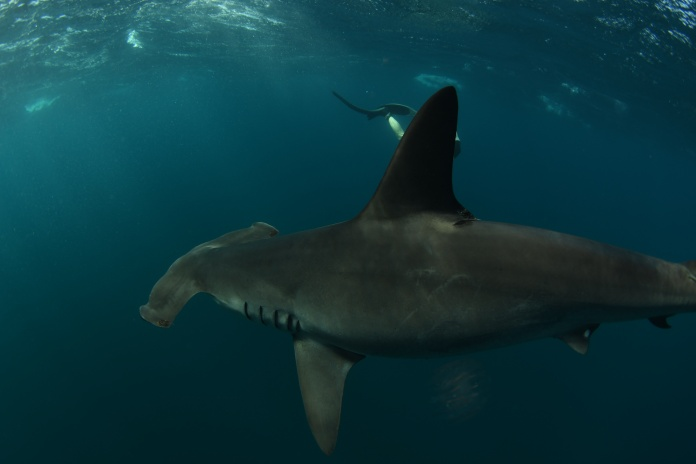Hammer: (84, 77, 667, 464)
